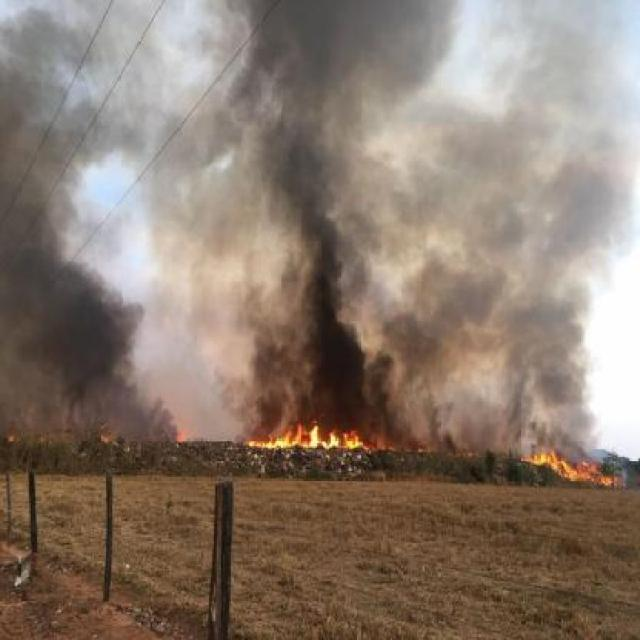Fire: (248, 421, 364, 454), (528, 448, 620, 484)
Smoke: (0, 224, 145, 446), (246, 0, 348, 269), (303, 266, 394, 414), (0, 68, 83, 230), (345, 0, 450, 108), (242, 278, 304, 431), (532, 332, 588, 438), (423, 258, 503, 324), (390, 313, 452, 378), (226, 72, 259, 110)
